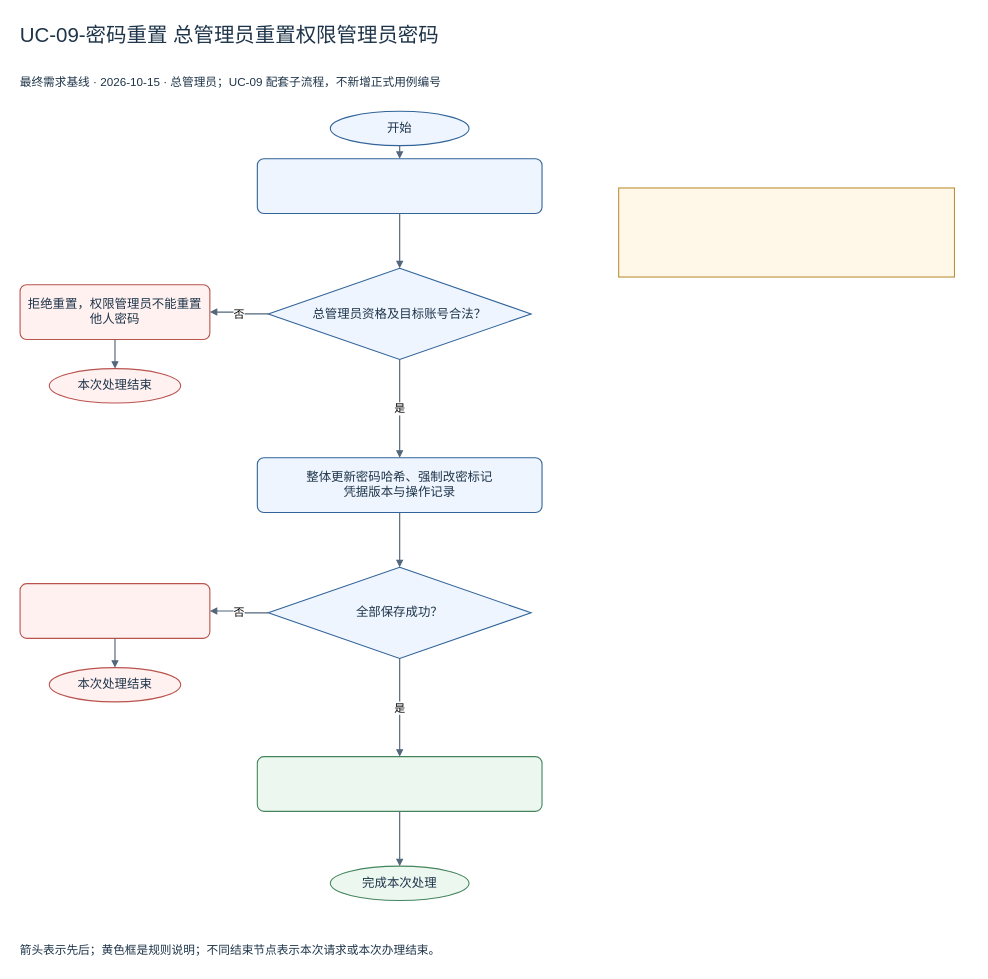
Image size: 988x979. Some labels were removed from this diagram. Here are the shapes that lost their labels. From the top down, the box of each, then its label:
(256, 158, 542, 214): 选择目标权限管理员账号 填写新临时密码与原因
(618, 187, 955, 277): 重置边界 不查询原密码，不恢复停用账号 不恢复失效任命，不改变业务角色 唯一总管理员无法登录属于部署恢复流程
(19, 583, 210, 639): 本次写入回滚，不返回重置成功
(256, 756, 542, 812): 全部旧会话失效 安全交付临时密码，下次登录先改密
